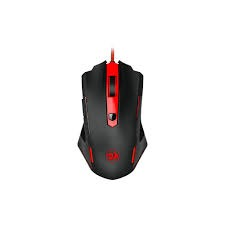mouse: (74, 47, 155, 184)
